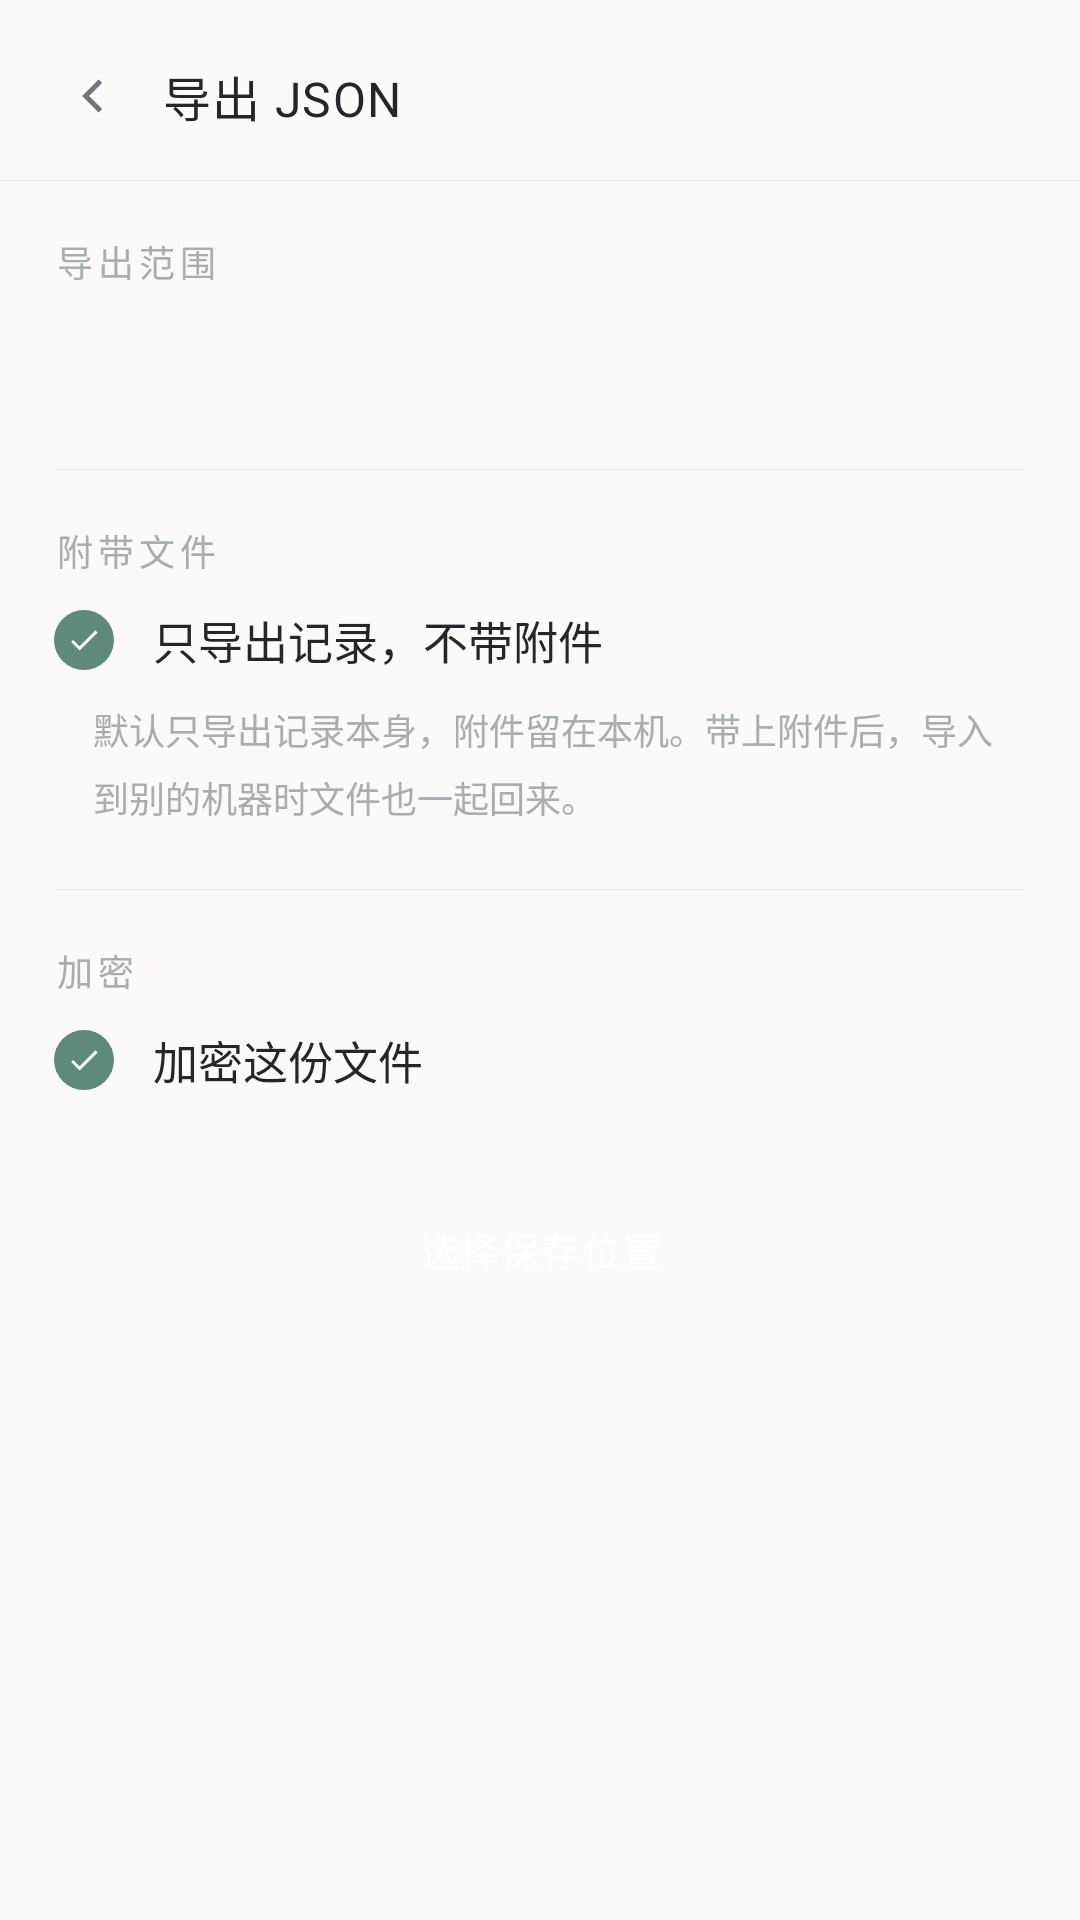

Icon click points for this 1080 x 1920 phone screenshot, format point (x, y):
返回: point (92, 96)
